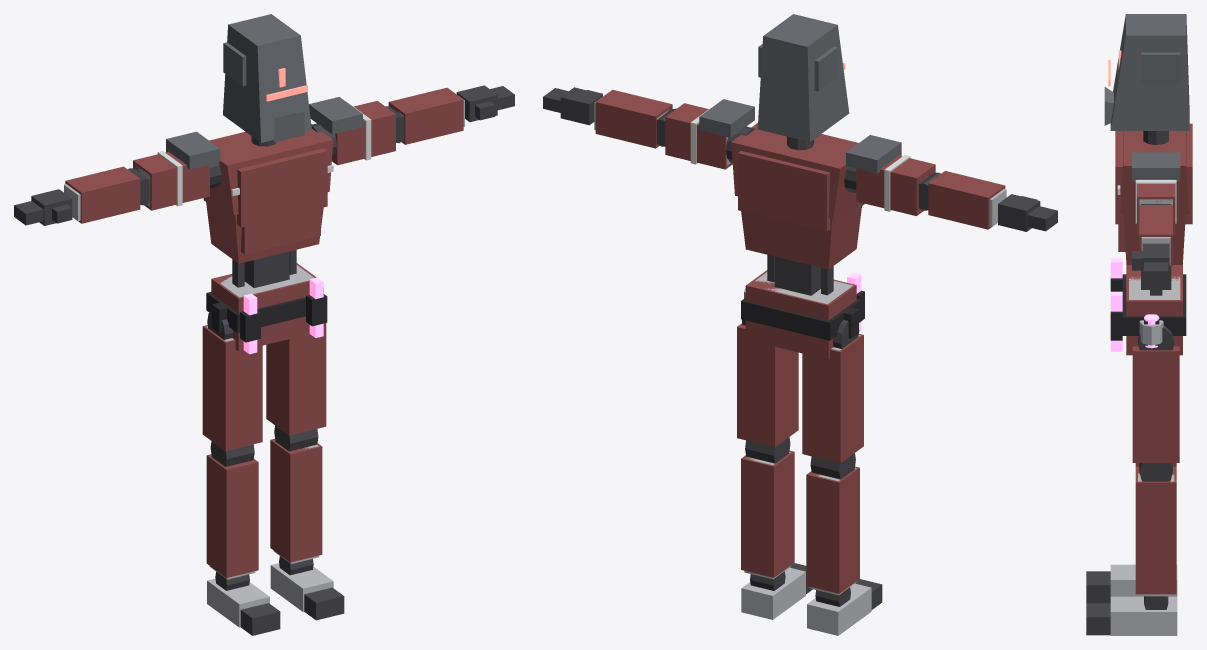
Rendered from char_F2_security.glb.
3 views of the same model, side by side, from view 1: azimuth 30°, elevation 25°; view 2: azimuth 150°, elevation 25°; view 3: azimuth 270°, elevation 25° (orthographic). The views are drawn at different scales.
Parts seen in each view (by area): view 1: Head_mesh, UpperChest_mesh, RightLowerLeg_mesh, LeftLowerLeg_mesh, RightUpperLeg_mesh, Hips_mesh, LeftUpperLeg_mesh, Chest_mesh, RightUpperArm_mesh, LeftUpperArm_mesh, RightLowerArm_mesh, LeftLowerArm_mesh (+7 smaller); view 2: UpperChest_mesh, Head_mesh, RightUpperLeg_mesh, Hips_mesh, LeftLowerLeg_mesh, RightLowerLeg_mesh, LeftUpperLeg_mesh, Chest_mesh, RightUpperArm_mesh, LeftUpperArm_mesh, RightLowerArm_mesh, LeftLowerArm_mesh (+5 smaller); view 3: Head_mesh, LeftUpperLeg_mesh, LeftLowerLeg_mesh, Hips_mesh, UpperChest_mesh, LeftFoot_mesh, LeftUpperArm_mesh, LeftLowerArm_mesh, LeftHand_mesh, Chest_mesh, RightFoot_mesh, LeftToes_mesh (+6 smaller).
Part boxes in pixels (box(x1,y1,x2,y2)): Head_mesh: box(223, 14, 311, 142); UpperChest_mesh: box(203, 124, 333, 227); RightLowerLeg_mesh: box(206, 441, 258, 579); LeftLowerLeg_mesh: box(270, 425, 322, 563); RightUpperLeg_mesh: box(202, 310, 262, 450); Hips_mesh: box(206, 263, 327, 351); LeftUpperLeg_mesh: box(266, 323, 326, 435); Chest_mesh: box(205, 197, 323, 263); RightUpperArm_mesh: box(133, 131, 220, 210); LeftUpperArm_mesh: box(309, 97, 395, 165); RightLowerArm_mesh: box(64, 166, 149, 223); LeftLowerArm_mesh: box(385, 87, 464, 144); UpperChest_mesh: box(731, 123, 864, 231); Head_mesh: box(757, 14, 849, 141); RightUpperLeg_mesh: box(802, 319, 863, 463); Hips_mesh: box(741, 270, 864, 359); LeftLowerLeg_mesh: box(741, 437, 794, 579); RightLowerLeg_mesh: box(806, 453, 859, 595); LeftUpperLeg_mesh: box(737, 319, 798, 447); Chest_mesh: box(741, 202, 862, 269); RightUpperArm_mesh: box(846, 135, 935, 215); LeftUpperArm_mesh: box(665, 99, 754, 169); RightLowerArm_mesh: box(918, 171, 1006, 229); LeftLowerArm_mesh: box(594, 89, 676, 148); Head_mesh: box(1104, 14, 1189, 130); LeftUpperLeg_mesh: box(1132, 326, 1179, 462); LeftLowerLeg_mesh: box(1135, 463, 1176, 596); Hips_mesh: box(1110, 265, 1186, 355); UpperChest_mesh: box(1115, 123, 1192, 224); LeftFoot_mesh: box(1110, 596, 1177, 635); LeftUpperArm_mesh: box(1132, 152, 1180, 234); LeftLowerArm_mesh: box(1139, 204, 1172, 266); LeftHand_mesh: box(1132, 243, 1169, 283); Chest_mesh: box(1118, 214, 1185, 264); RightFoot_mesh: box(1110, 564, 1177, 596); LeftToes_mesh: box(1086, 603, 1110, 635).
Size of the model in its own units: 1.69 by 1.88 by 0.308.
